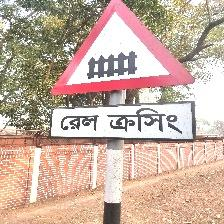Rail-crossing: (45, 0, 202, 140)
